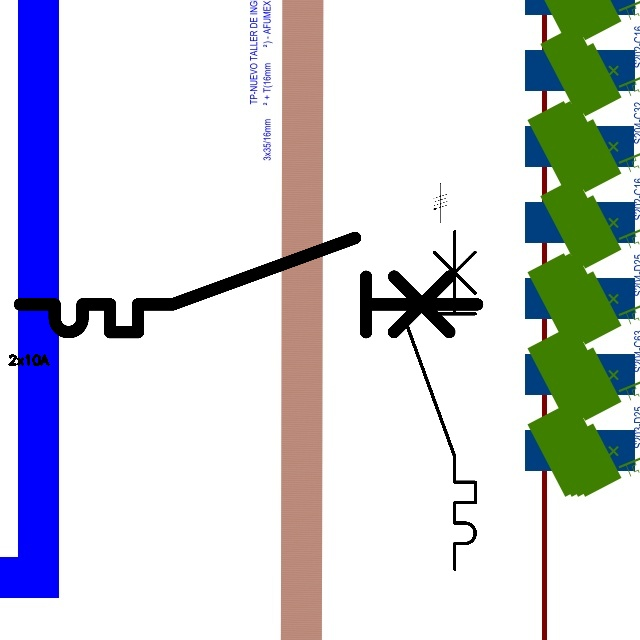interruptor_termomagnetico: (8, 226, 489, 344), (397, 223, 484, 578)
